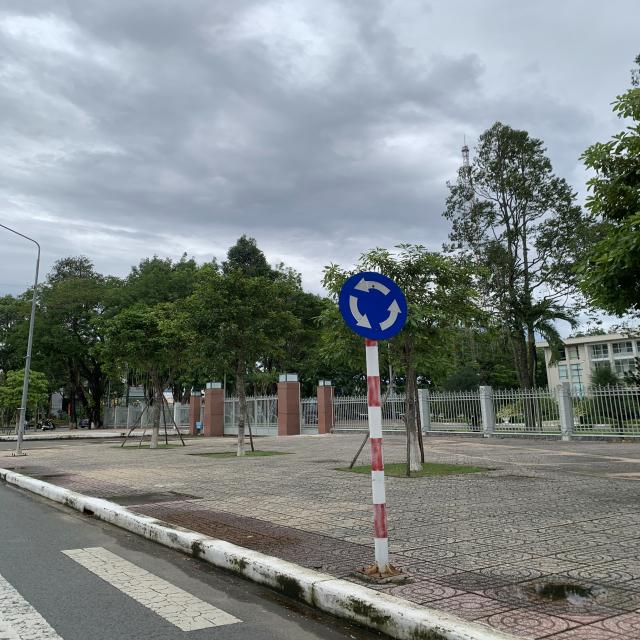Xe_Bus: (338, 268, 406, 342)
